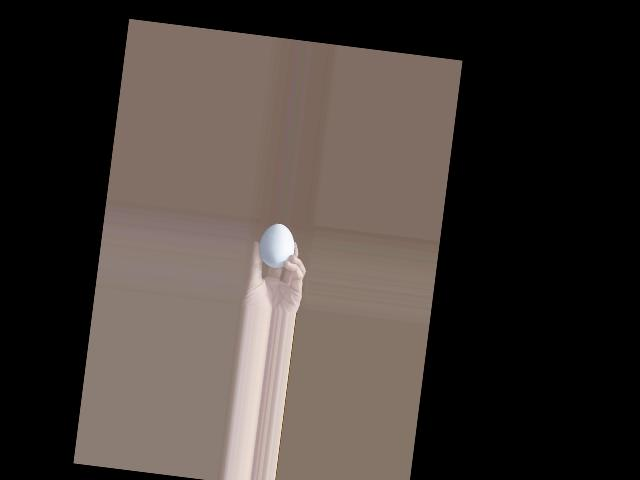egg: (257, 221, 298, 269)
